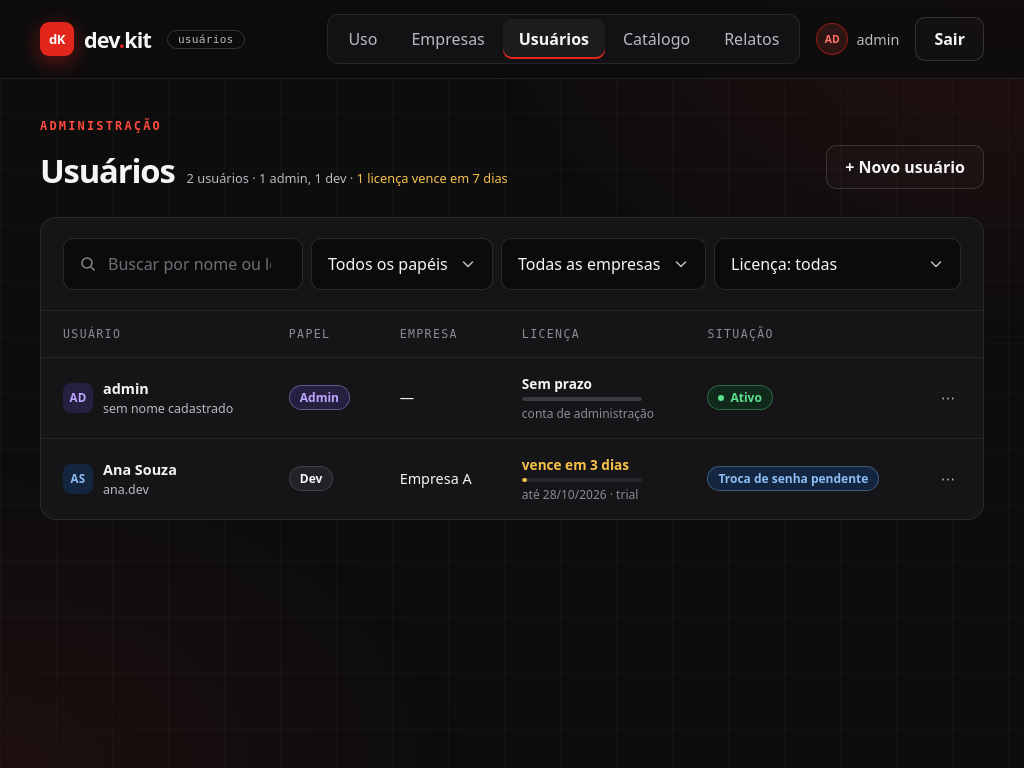
Usuários (US #405; visual da US #461) › a linha do próprio admin não tem o Bloquear
Click the button named "Ações de admin". click: [948, 398]
box: [935,385,961,411]
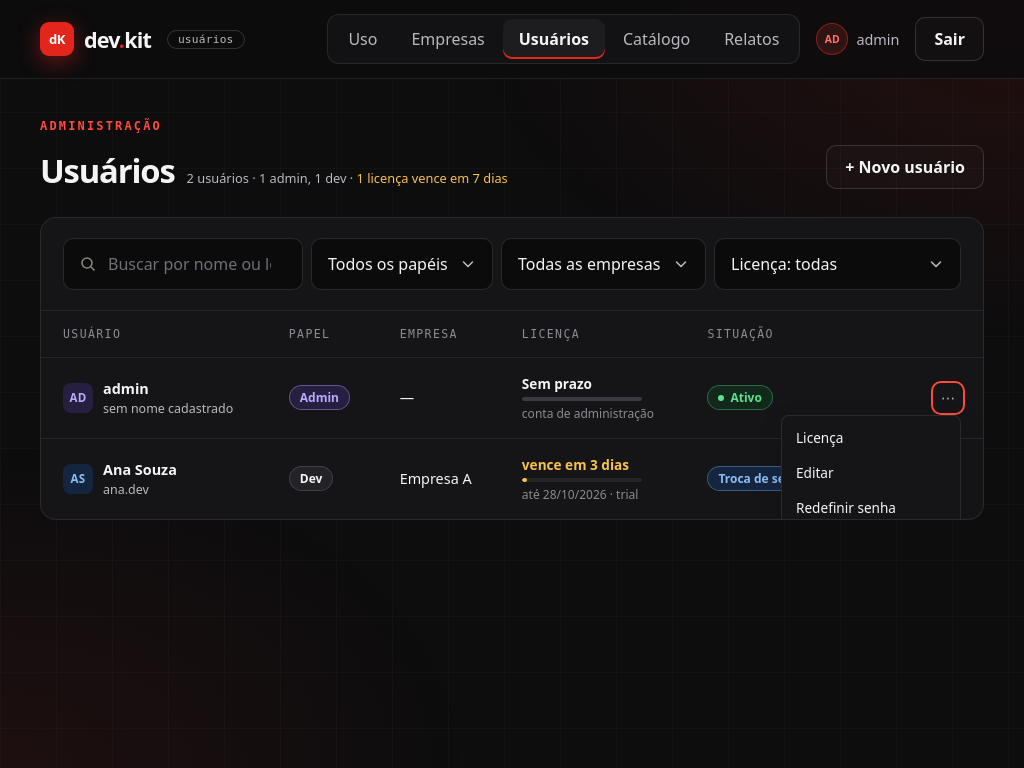
expect the menu items read "Licença", "Editar", "Redefinir senha", in this order: met, box [786,420,956,455]; [786,455,956,490]; [786,490,956,519]
Press Escape
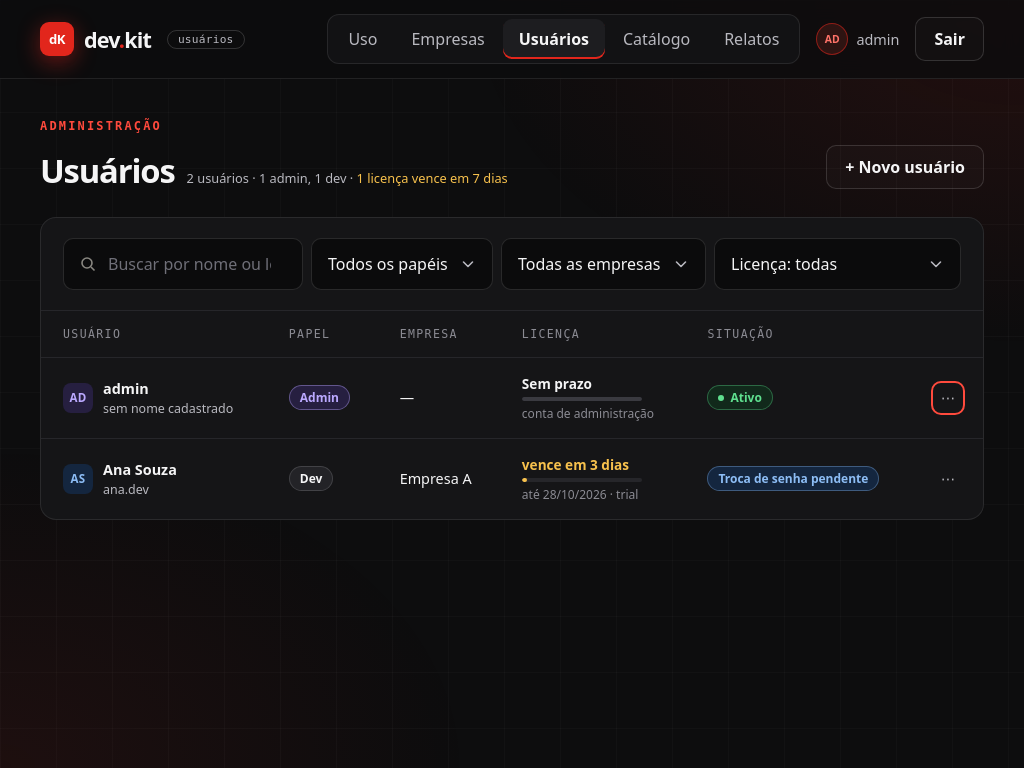
expect the menu is gone: met
